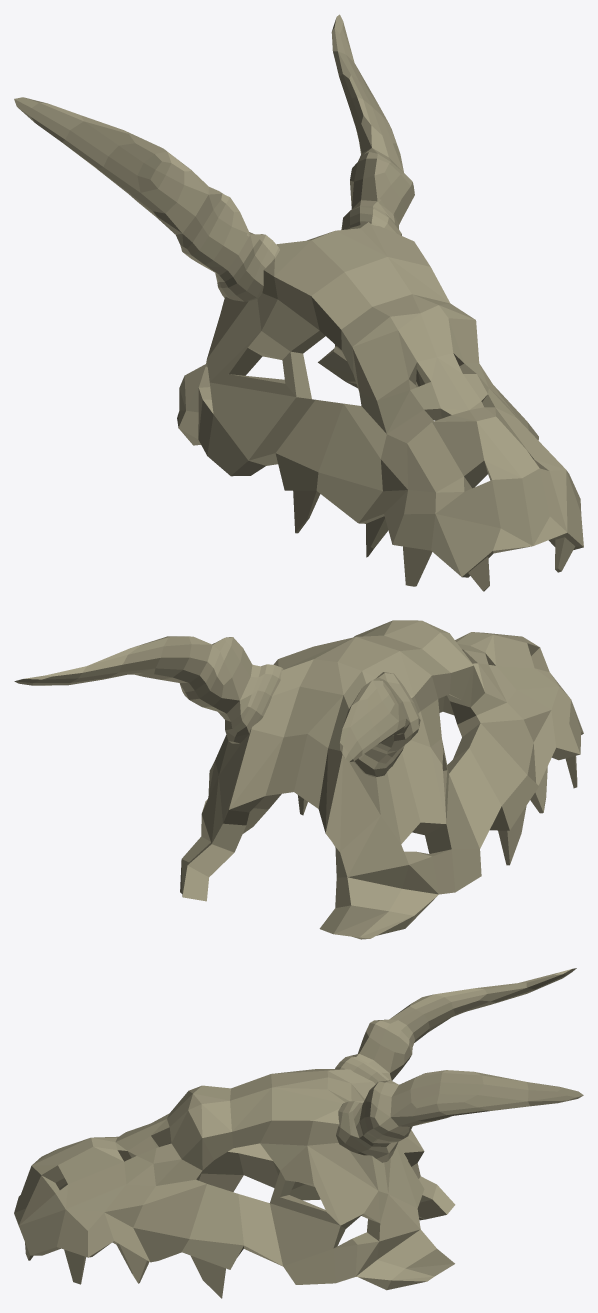
Rendered from dragons_head.fbx.
The picture shows the model from 3 angles, top to bottom: view 1: azimuth 30°, elevation 25°; view 2: azimuth 150°, elevation 25°; view 3: azimuth 270°, elevation 25°; orthographic projection. The views are drawn at different scales.
Visible parts, largest first — view 1: Cylinder.005; view 2: Cylinder.005; view 3: Cylinder.005.
Boxes of the visible parts, x1,y1,x2,y2 form: Cylinder.005: (14, 14, 583, 591); Cylinder.005: (14, 620, 583, 939); Cylinder.005: (14, 968, 583, 1298).
Size of the model in its own units: 947 by 789 by 1780.
